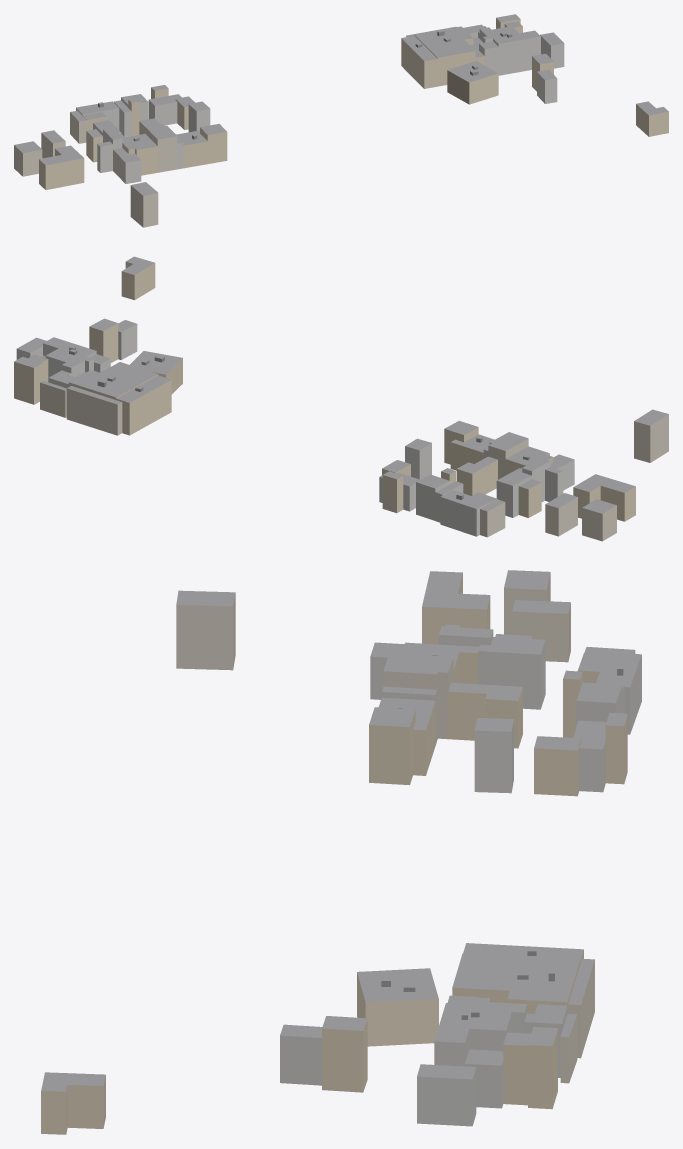
The model's file is building_1_-2.glb.
The picture shows the model from 3 angles, top to bottom: view 1: azimuth 30°, elevation 25°; view 2: azimuth 150°, elevation 25°; view 3: azimuth 270°, elevation 25°; orthographic projection. The views are drawn at different scales.
Parts seen in each view (by area): view 1: roof, sandstone, concrete_light, concrete_warm; view 2: roof, sandstone, concrete_warm, concrete_light; view 3: roof, sandstone, concrete_light, concrete_warm.
Part boxes in pixels (left/top/right/bottom): roof: left=14, top=14, right=668, bottom=195; sandstone: left=39, top=18, right=668, bottom=189; concrete_light: left=76, top=29, right=564, bottom=183; concrete_warm: left=14, top=36, right=407, bottom=227; roof: left=14, top=256, right=668, bottom=513; sandstone: left=14, top=262, right=635, bottom=521; concrete_warm: left=40, top=382, right=668, bottom=541; concrete_light: left=16, top=324, right=574, bottom=536; roof: left=41, top=570, right=641, bottom=1091; sandstone: left=41, top=573, right=627, bottom=1134; concrete_light: left=280, top=626, right=641, bottom=1126; concrete_warm: left=176, top=573, right=635, bottom=1083.
Bounding box in the file's own units: 256 × 15.79 × 125.
